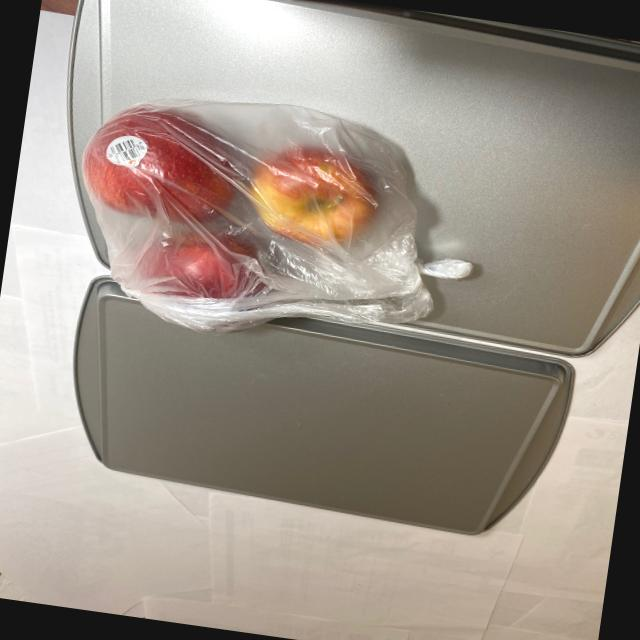apple: (53, 100, 397, 334)
